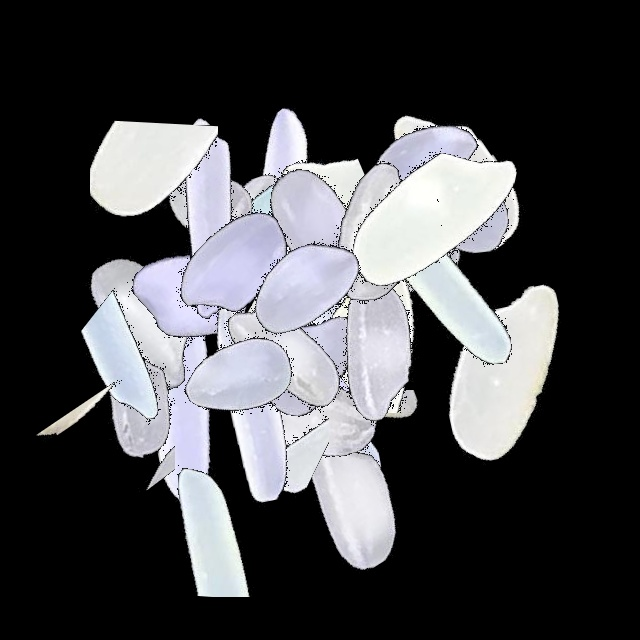Broken: (199, 237, 449, 406), (209, 101, 370, 351), (90, 438, 340, 597), (281, 258, 531, 413), (81, 231, 227, 481), (176, 277, 426, 420), (257, 125, 391, 375), (181, 275, 431, 407), (198, 301, 329, 551), (90, 62, 218, 312), (240, 148, 490, 272), (211, 296, 461, 419), (178, 286, 428, 399), (260, 390, 510, 501), (294, 229, 544, 325), (79, 320, 175, 570), (153, 172, 403, 265), (258, 213, 508, 304), (7, 379, 257, 465), (357, 110, 443, 360)
Full: (383, 250, 633, 500), (194, 311, 444, 561), (303, 79, 553, 329), (336, 51, 586, 301), (152, 83, 402, 333), (57, 279, 307, 529), (18, 197, 268, 447), (116, 114, 366, 364), (226, 374, 476, 624), (190, 266, 440, 516), (11, 278, 261, 528), (299, 111, 549, 361), (328, 86, 578, 336), (183, 287, 433, 537), (140, 106, 390, 356), (316, 155, 566, 405), (301, 42, 551, 292), (68, 165, 318, 415), (129, 276, 379, 526), (183, 241, 433, 491), (268, 119, 518, 369), (98, 104, 348, 354), (161, 231, 411, 481), (249, 221, 499, 471), (187, 98, 437, 348), (250, 108, 500, 358), (117, 254, 367, 504), (309, 95, 559, 345), (77, 94, 327, 344), (111, 140, 361, 390)
